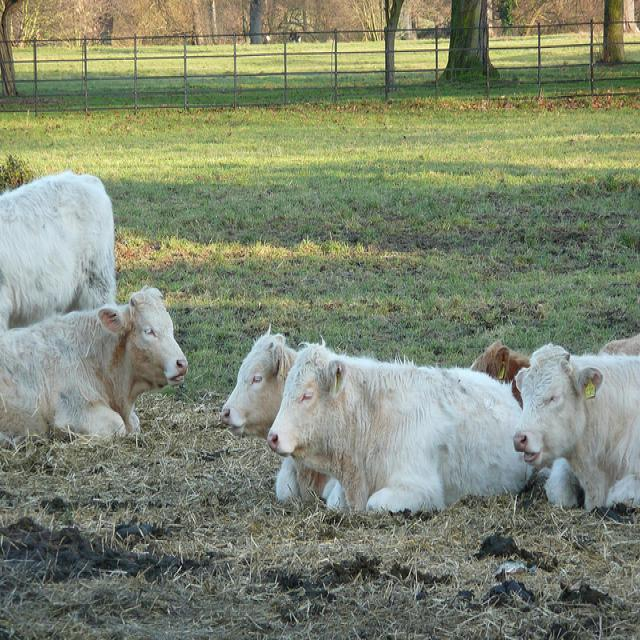cow: (266, 341, 537, 515), (0, 277, 190, 451), (217, 325, 348, 512), (511, 339, 639, 509), (0, 172, 118, 329), (467, 335, 533, 409)
